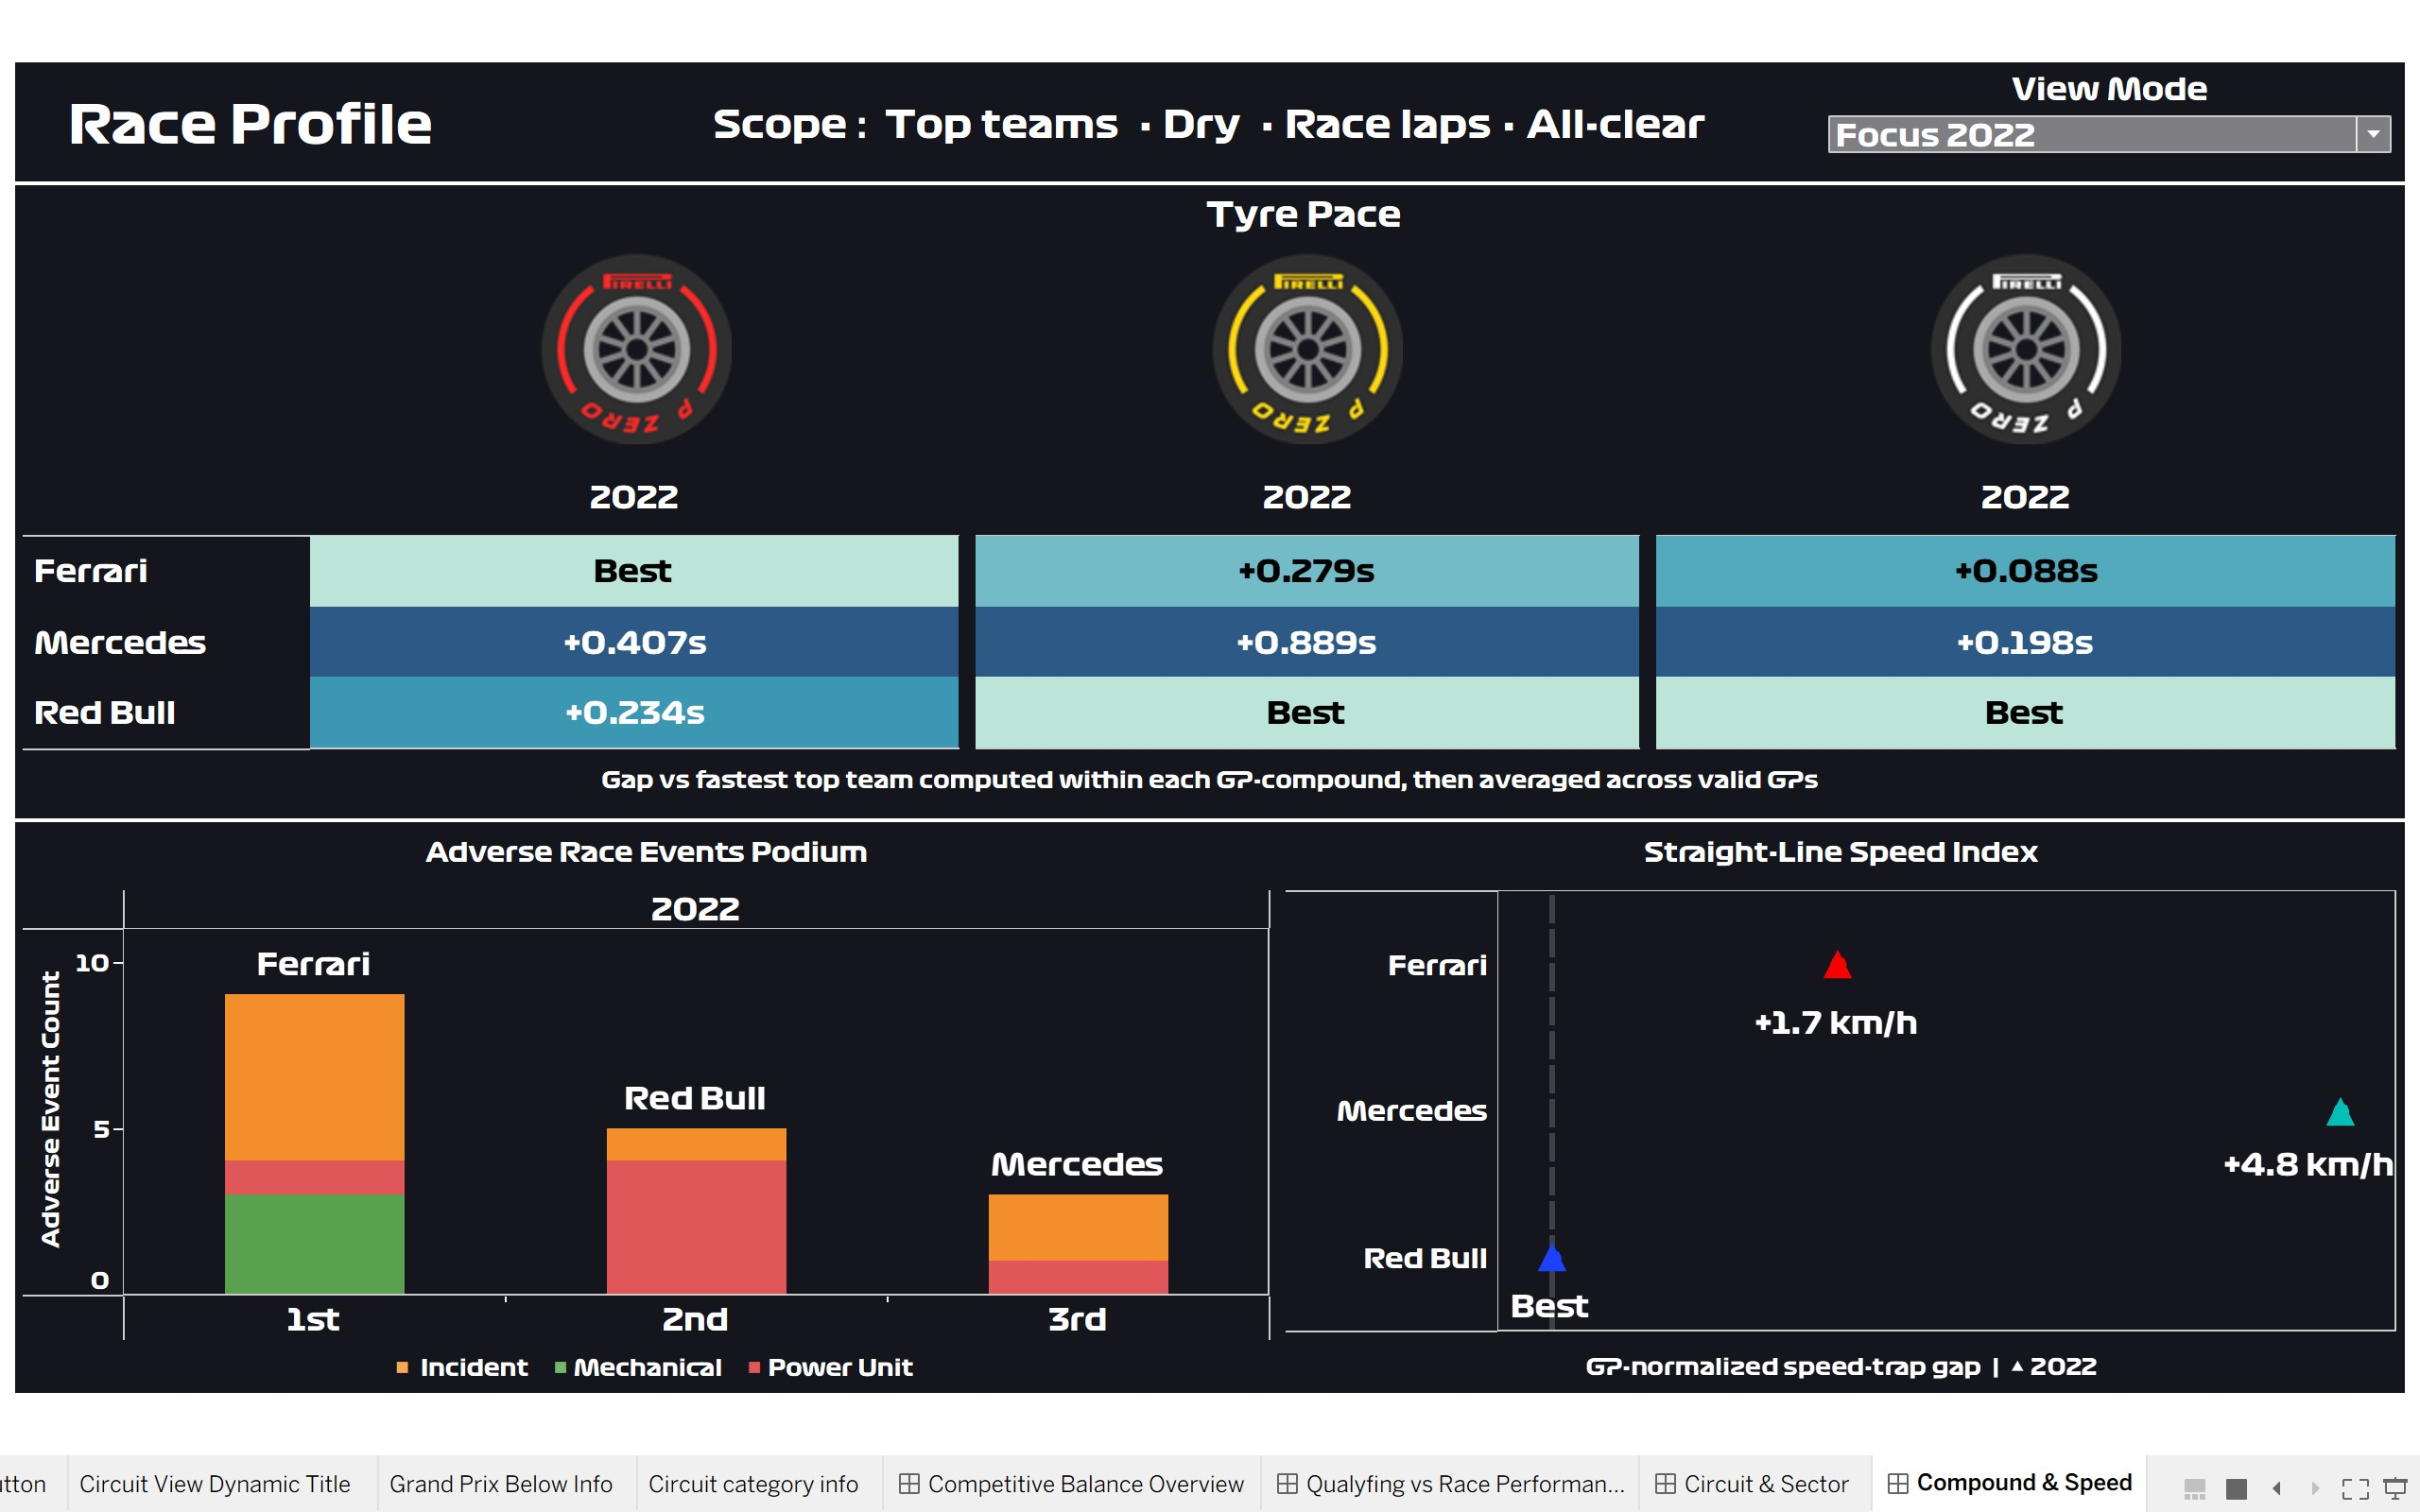

What the dashboard file says about the page in this screenshot:
{"tool":"tableau","page":{"name":"Compound & Speed","canvas":[1280,720],"ordinal":2},"visuals":[{"type":"text","box":[8,8,361,63]},{"type":"text","box":[369,8,591,63]},{"type":"parameter","param":"[Parameters].[Parameter 4]","box":[960,8,312,63]},{"type":"text","box":[8,73,1264,23]},{"type":"blank","box":[8,98,153,109]},{"type":"image","param":"Image/soft_tyre.png","box":[161,98,351,109]},{"type":"image","param":"Image/medium_tyre.png","box":[512,98,360,109]},{"type":"image","param":"Image/hard_tyre.png","box":[872,98,400,109]},{"type":"worksheet","title":"Tyre Pace — Soft","mark":"Square","rows":["team_name"],"cols":["season_year"],"box":[8,207,504,162]},{"type":"worksheet","title":"Tyre Pace — Medium","mark":"Square","rows":["team_name"],"cols":["season_year"],"box":[512,207,360,162]},{"type":"worksheet","title":"Tyre Pace — Hard","mark":"Square","rows":["team_name"],"cols":["season_year"],"box":[872,207,400,162]},{"type":"text","box":[8,369,1264,18]},{"type":"worksheet","title":"Adverse Race Events Podium","mark":"Text","rows":["Calculation_3198775210897408","Calculation_1434608050249745"],"cols":["season_year"],"box":[8,403,668,309]},{"type":"worksheet","title":"Straight-Line Speed Index","mark":"Line","rows":["team_name"],"box":[676,403,596,281]},{"type":"worksheet","title":"Speed Shape Legend","mark":"Automatic","box":[676,684,596,28]}]}

Visuals, with their boxes on the page's 1280x720 design canvas (x1, y1, x2, y2). These are canvas units, not pixel positions in the 2420x1512 screenshot, which may show the page scaled, cropped or inside an application window:
text: pyautogui.locateOnScreen(8, 8, 369, 71)
text: pyautogui.locateOnScreen(369, 8, 960, 71)
parameter: pyautogui.locateOnScreen(960, 8, 1272, 71)
text: pyautogui.locateOnScreen(8, 73, 1272, 96)
blank: pyautogui.locateOnScreen(8, 98, 161, 207)
image: pyautogui.locateOnScreen(161, 98, 512, 207)
image: pyautogui.locateOnScreen(512, 98, 872, 207)
image: pyautogui.locateOnScreen(872, 98, 1272, 207)
"Tyre Pace — Soft" worksheet (Square marks): pyautogui.locateOnScreen(8, 207, 512, 369)
"Tyre Pace — Medium" worksheet (Square marks): pyautogui.locateOnScreen(512, 207, 872, 369)
"Tyre Pace — Hard" worksheet (Square marks): pyautogui.locateOnScreen(872, 207, 1272, 369)
text: pyautogui.locateOnScreen(8, 369, 1272, 387)
"Adverse Race Events Podium" worksheet (Text marks): pyautogui.locateOnScreen(8, 403, 676, 712)
"Straight-Line Speed Index" worksheet (Line marks): pyautogui.locateOnScreen(676, 403, 1272, 684)
"Speed Shape Legend" worksheet: pyautogui.locateOnScreen(676, 684, 1272, 712)
